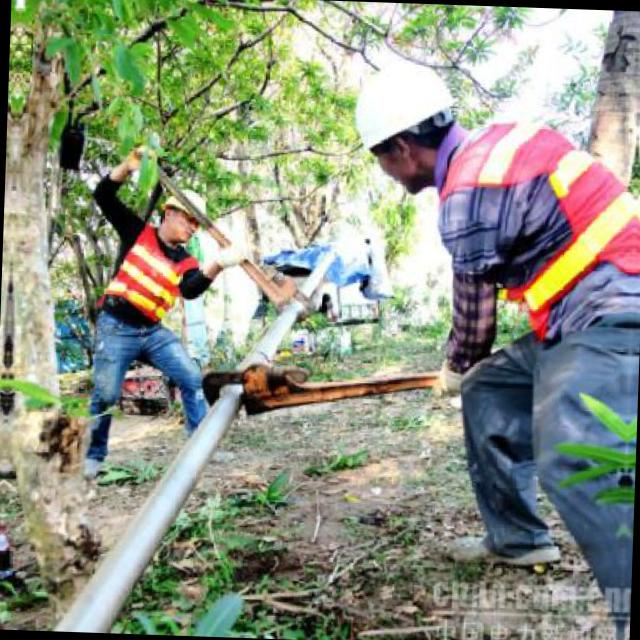helmet: (340, 54, 468, 198), (148, 174, 206, 247)
